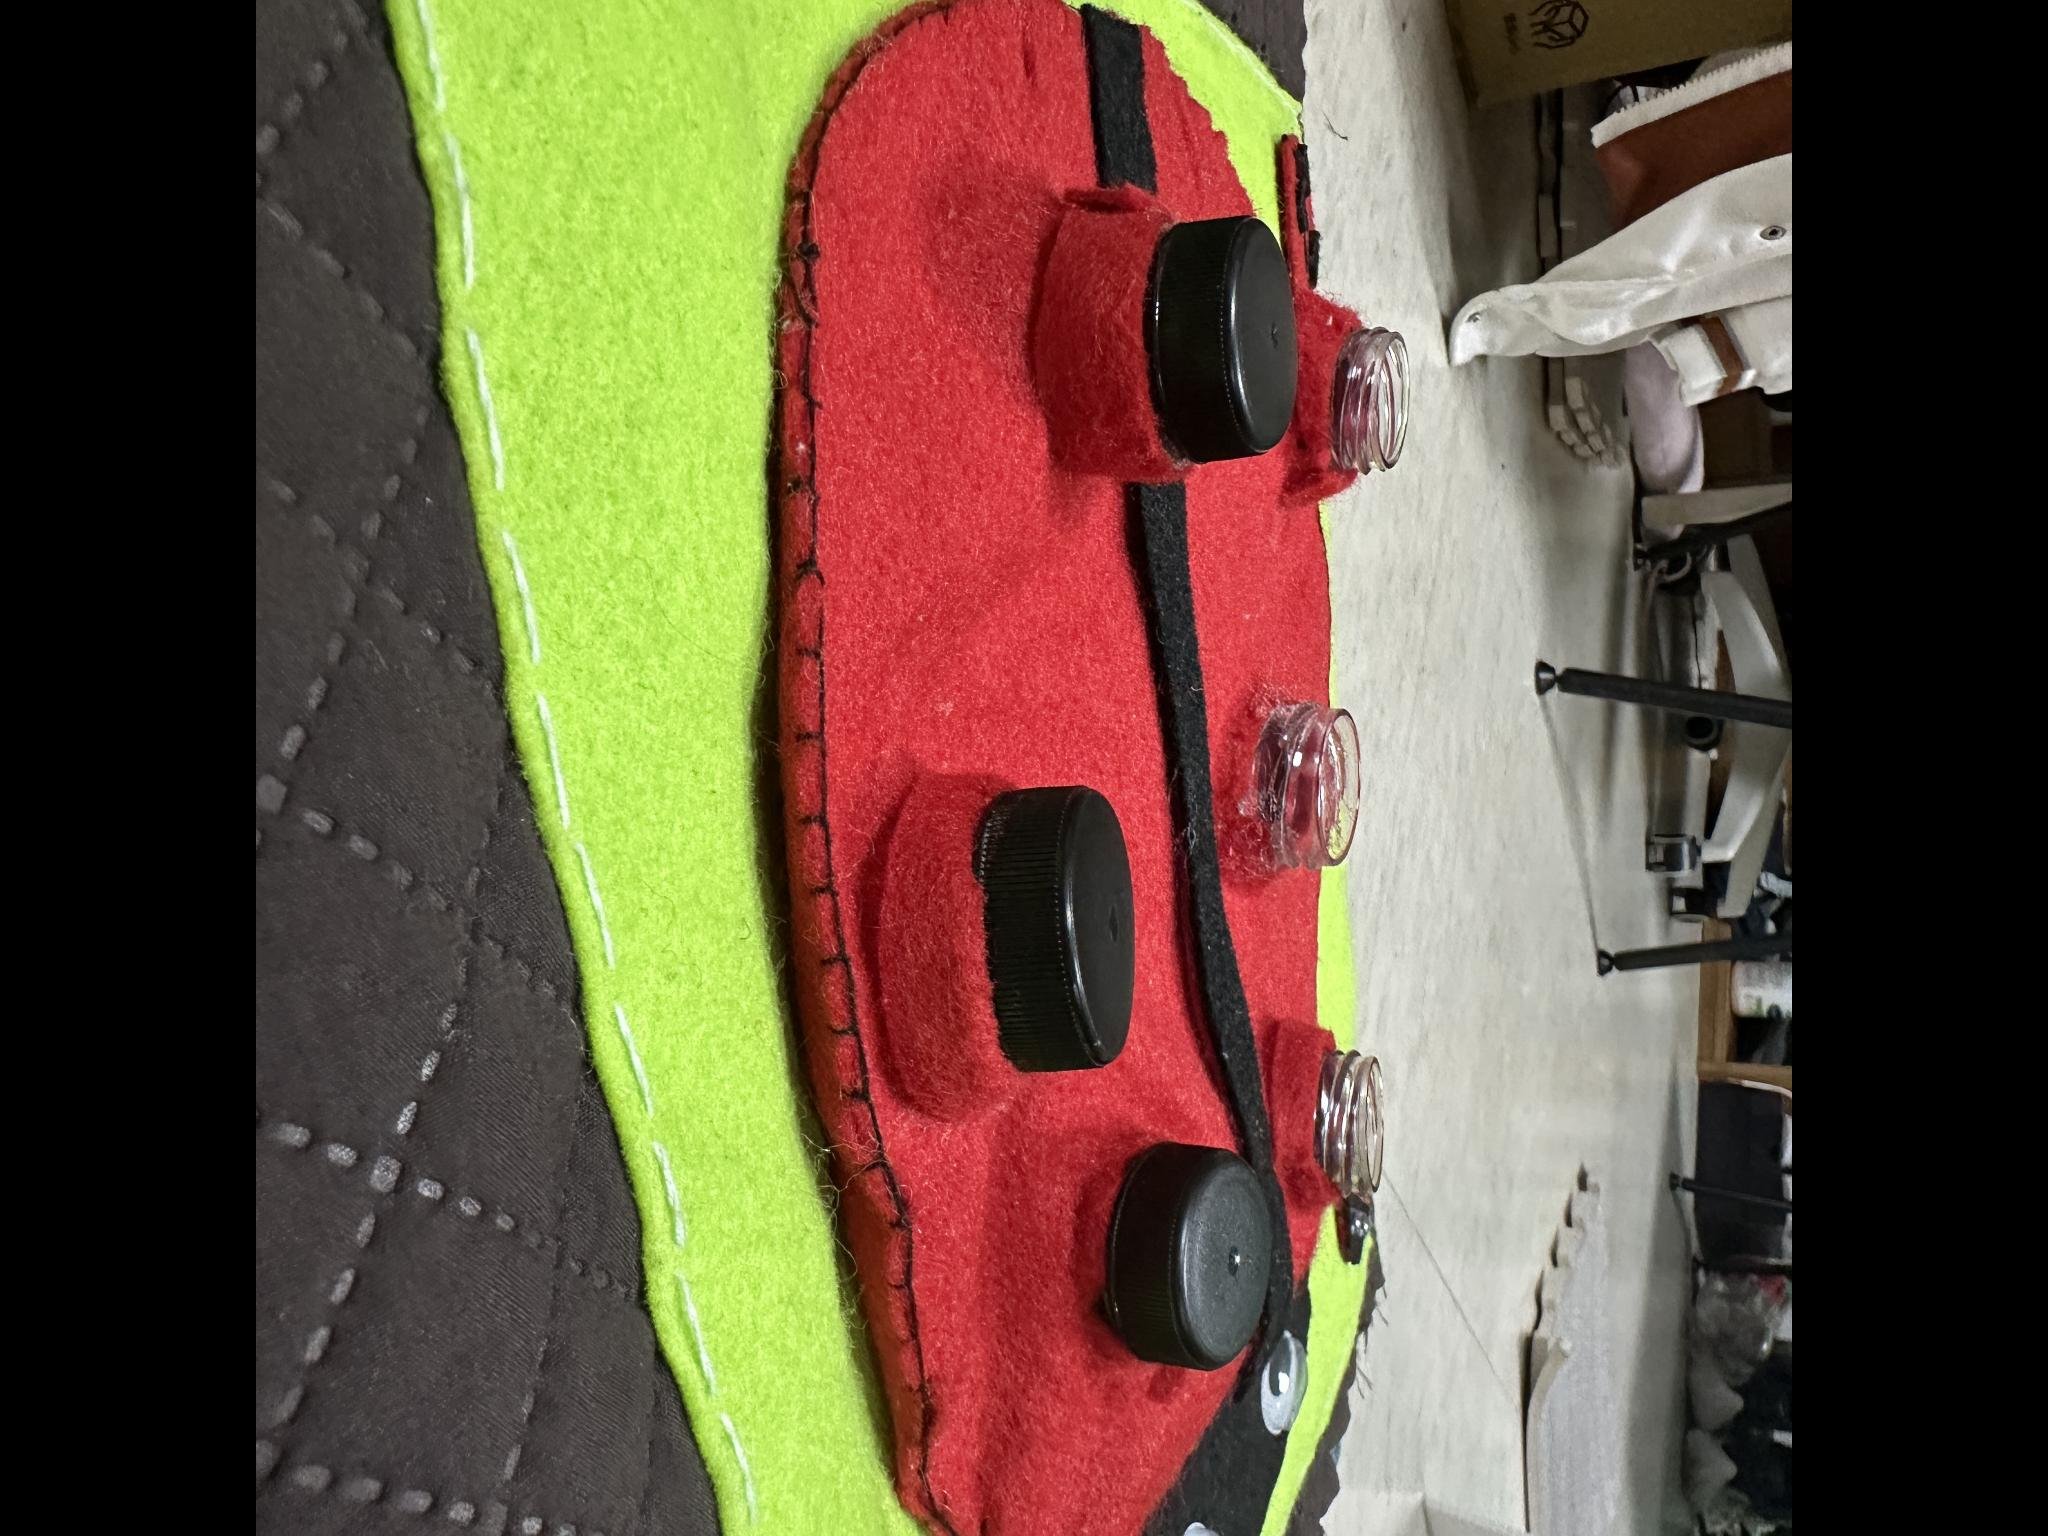cap_ok: (876, 739, 1177, 1102), (1043, 155, 1308, 511), (1087, 1125, 1295, 1383)
